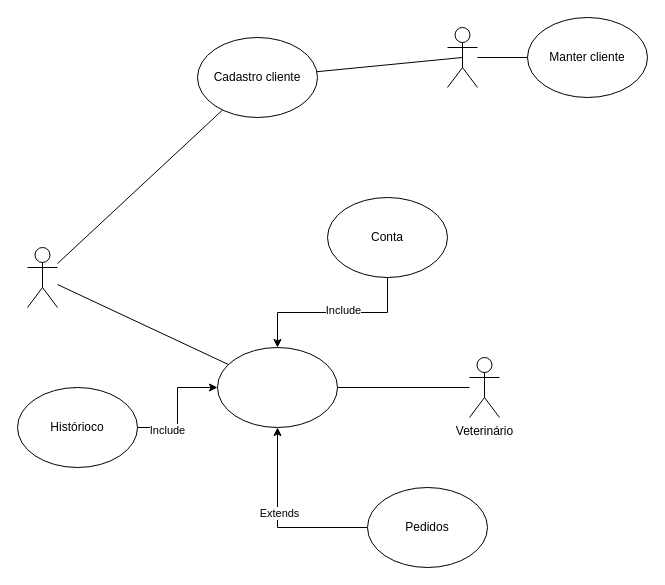
Some shapes in this 665 by 585 pixel diagram are drawn without their labels. The shapes that lost their labels are listed below. From the top down, each one's centre as x and y in pixels, then its label:
the point at 462,57: Secretária
the point at 42,277: Cliente
the point at 277,387: Sessão
